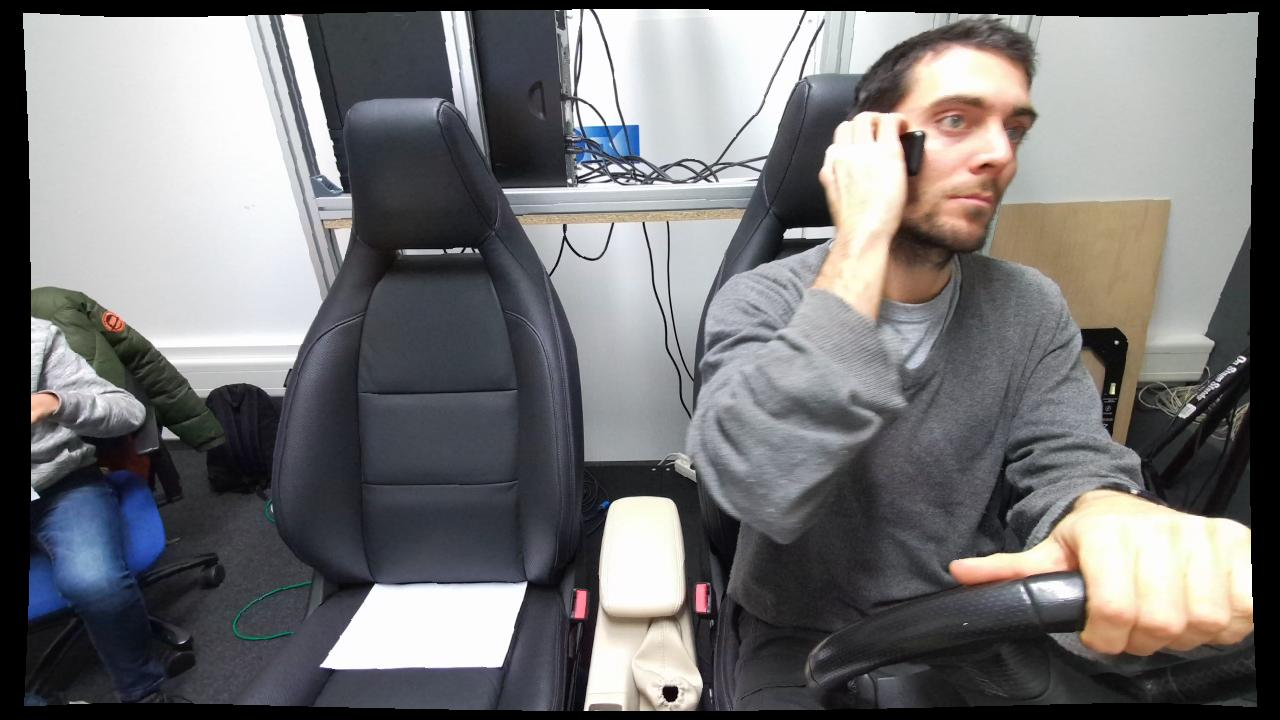PhoneUse: (814, 94, 936, 215)
SafeDriving: (689, 14, 1203, 706)
